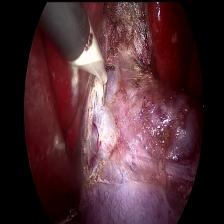Hook: (64, 18, 114, 106)
